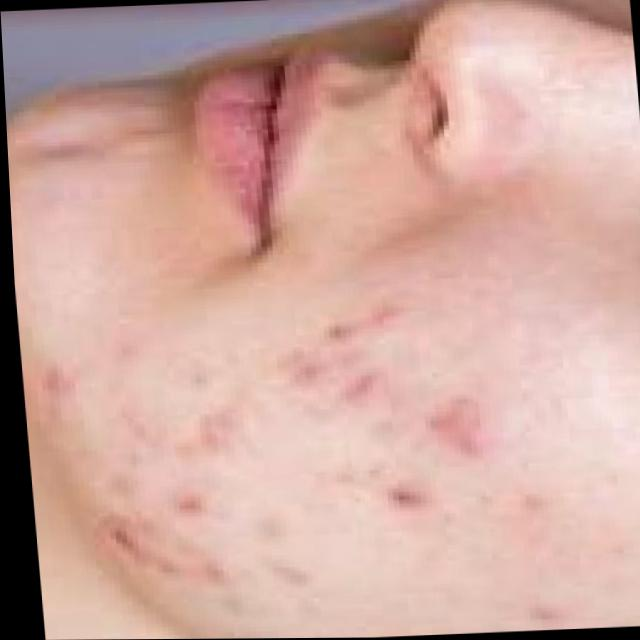Acne: (69, 257, 539, 640)
